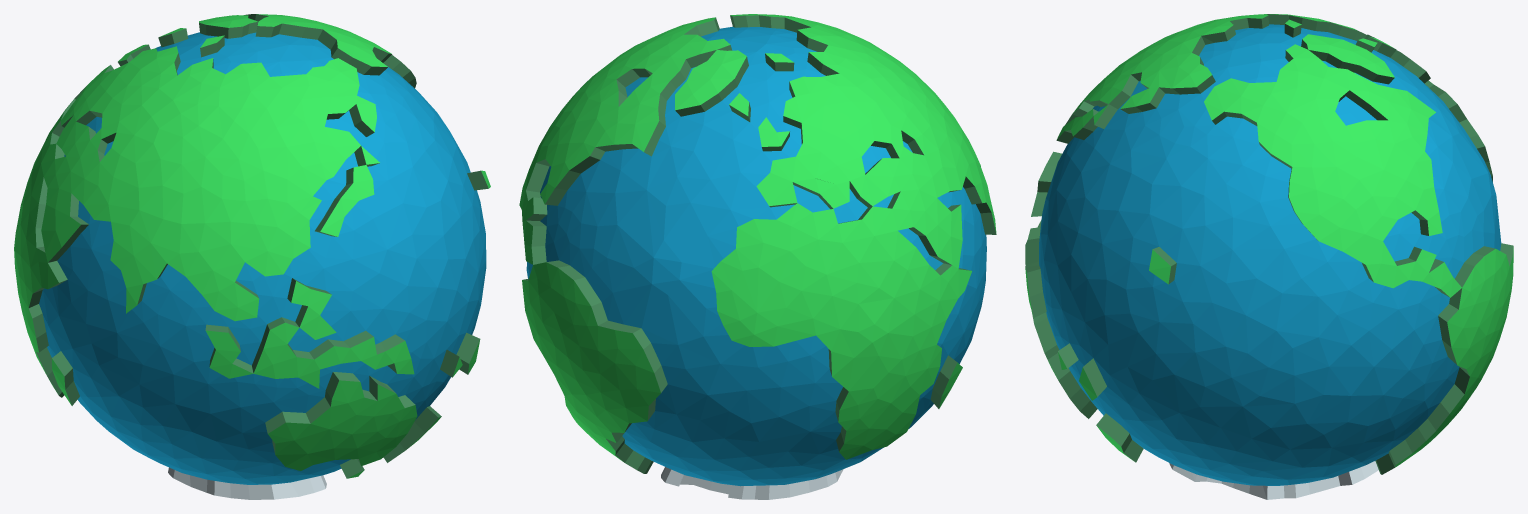
File: earth.gltf
The picture shows the model from 3 angles, left to right: view 1: azimuth 30°, elevation 25°; view 2: azimuth 150°, elevation 25°; view 3: azimuth 270°, elevation 25°; orthographic projection.
Parts seen in each view (by area): view 1: Sphere; view 2: Sphere; view 3: Sphere.
Boxes of the visible parts, <box> form: Sphere: <box>14,14,490,499</box>; Sphere: <box>519,14,996,499</box>; Sphere: <box>1025,14,1513,499</box>.
Size of the model in its own units: 204 by 211 by 211.
